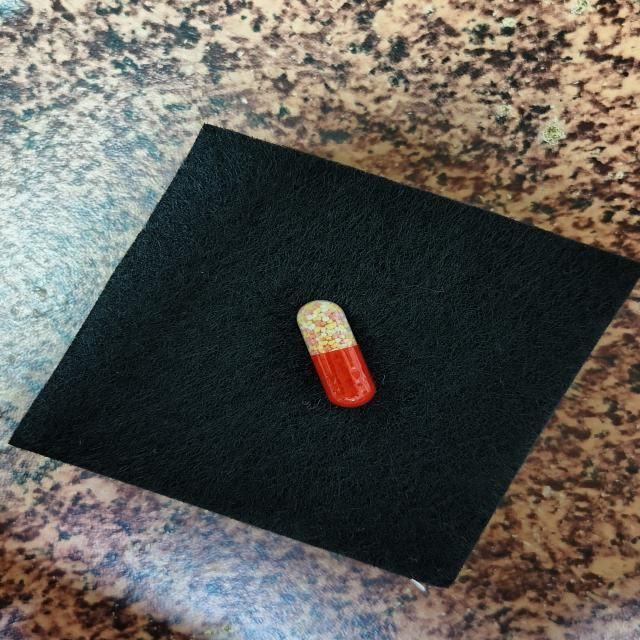Intact Capsule: (297, 300, 376, 407)
